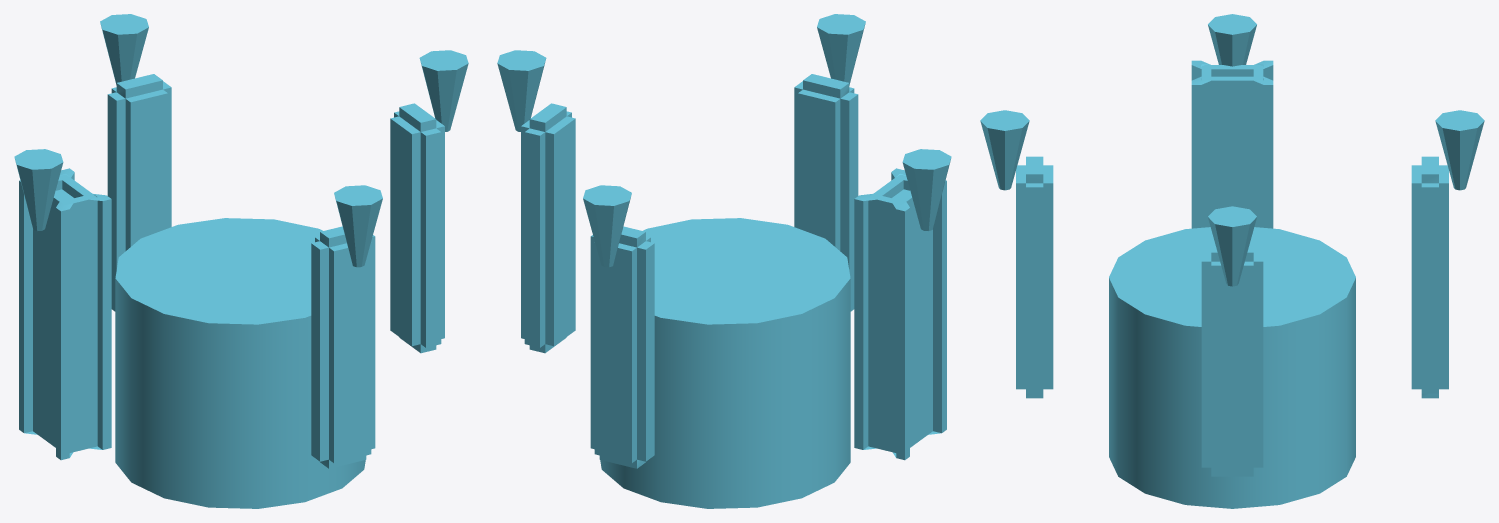
The model's file is energy_barrier_projector_array.glb.
3 renders of one model, left to right at view 1: azimuth 30°, elevation 25°; view 2: azimuth 150°, elevation 25°; view 3: azimuth 270°, elevation 25°, orthographic. The views are drawn at different scales.
Visible parts, largest first — view 1: energy_barrier_projector_array; view 2: energy_barrier_projector_array; view 3: energy_barrier_projector_array.
Part boxes in pixels (x1,y1,x2,y2): energy_barrier_projector_array: [14, 14, 468, 508]; energy_barrier_projector_array: [497, 14, 951, 508]; energy_barrier_projector_array: [980, 14, 1484, 508].
Bounding box in the file's own units: 0.408 × 0.3 × 0.408.
